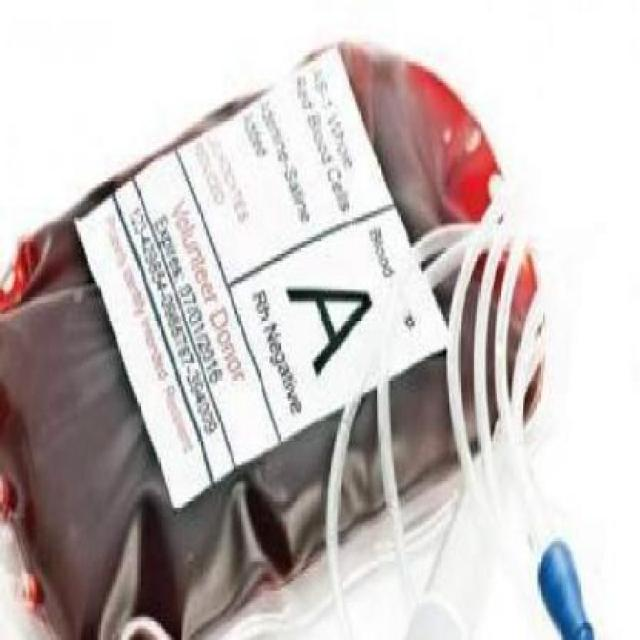B3: (0, 32, 557, 638)
